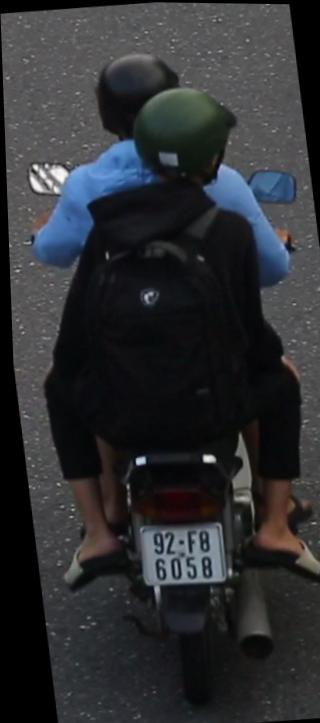LP: (128, 513, 229, 596)
helmet: (123, 80, 244, 195), (87, 44, 191, 134)
